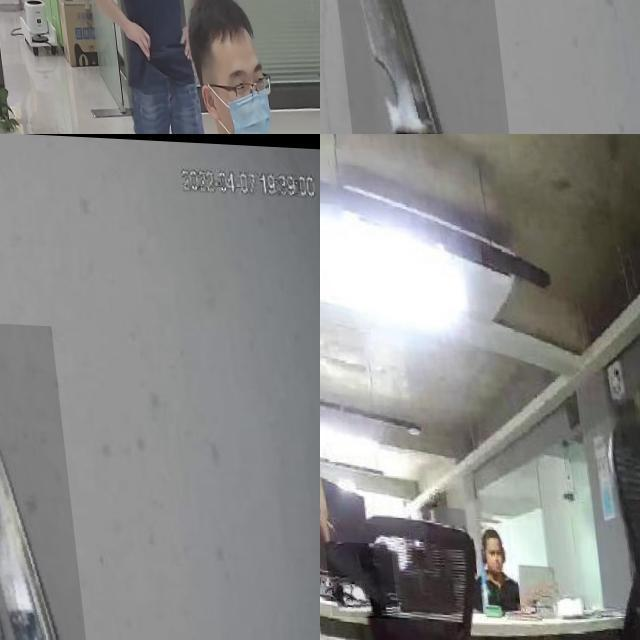-: (321, 0, 534, 134), (0, 318, 85, 640), (320, 538, 386, 615)
